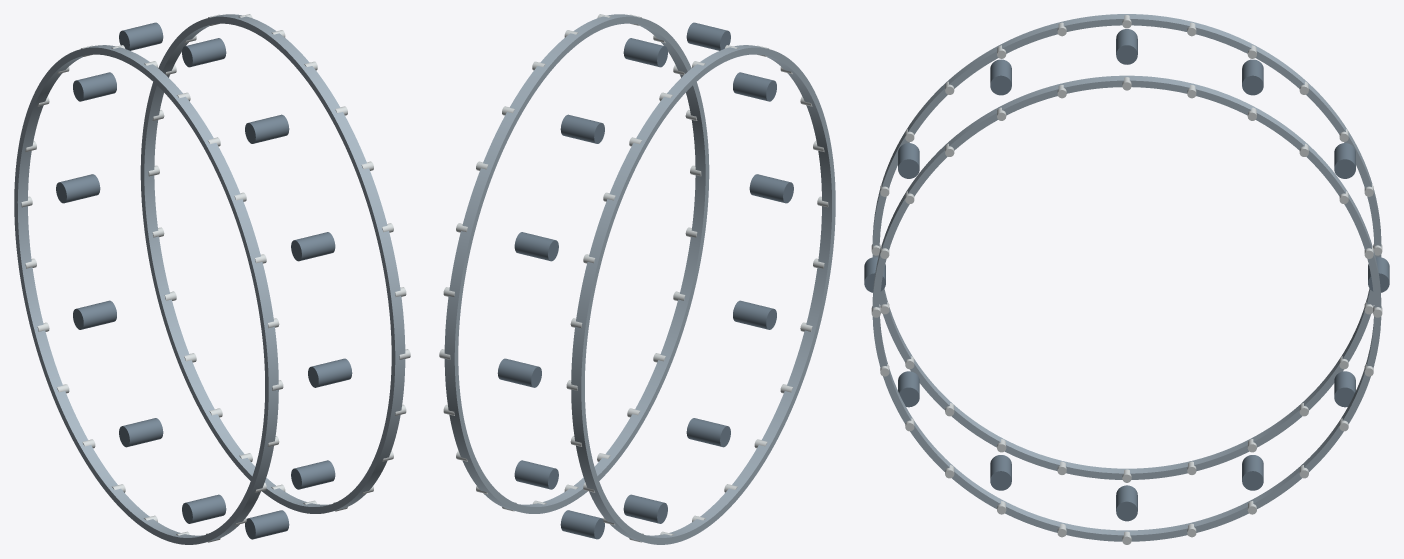
File: compressor-service-hardware.glb
3 renders of one model, left to right at view 1: azimuth 30°, elevation 25°; view 2: azimuth 150°, elevation 25°; view 3: azimuth 270°, elevation 25°, orthographic.
Parts seen in each view (by area): view 1: compressor-service-hardware - steel, compressor-service-hardware - shell, compressor-service-hardware - fastener; view 2: compressor-service-hardware - steel, compressor-service-hardware - shell, compressor-service-hardware - fastener; view 3: compressor-service-hardware - steel, compressor-service-hardware - shell, compressor-service-hardware - fastener.
Boxes of the visible parts, bbox=[...] form: compressor-service-hardware - steel: bbox=[14, 14, 405, 544]; compressor-service-hardware - shell: bbox=[56, 22, 352, 539]; compressor-service-hardware - fastener: bbox=[21, 14, 410, 542]; compressor-service-hardware - steel: bbox=[444, 14, 835, 544]; compressor-service-hardware - shell: bbox=[497, 22, 793, 539]; compressor-service-hardware - fastener: bbox=[439, 14, 828, 542]; compressor-service-hardware - steel: bbox=[872, 14, 1381, 541]; compressor-service-hardware - shell: bbox=[864, 29, 1389, 521]; compressor-service-hardware - fastener: bbox=[871, 15, 1382, 544].
Bounding box in the file's own units: 0.573 × 1.84 × 1.84.
